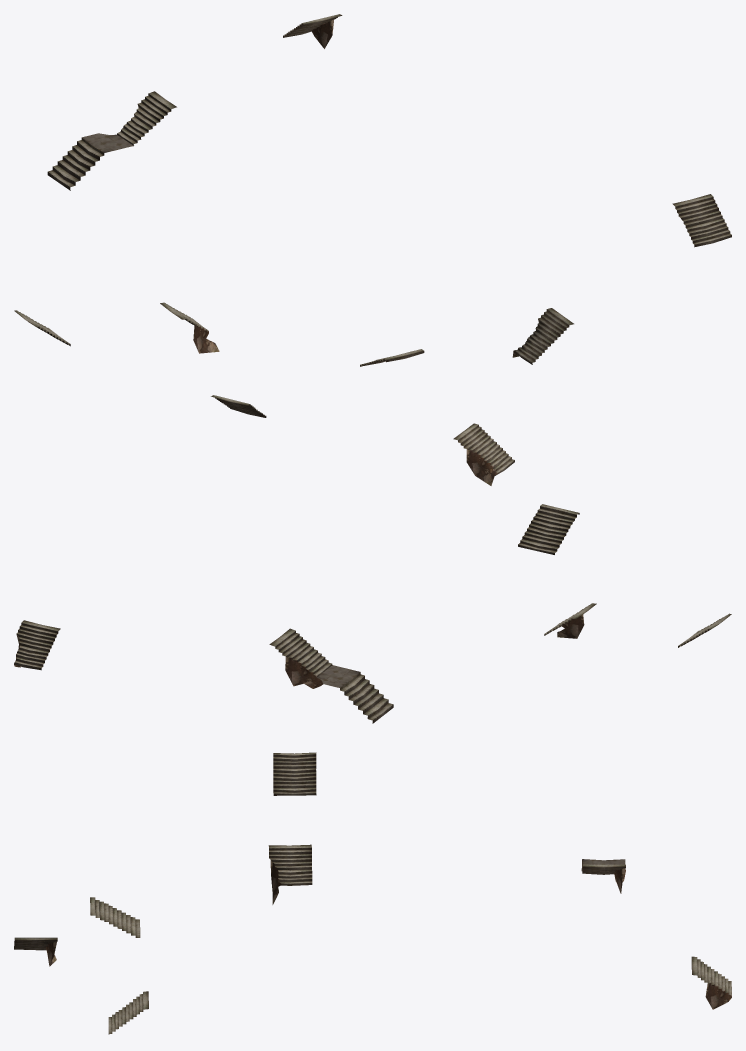
Rendered from rysd_louti_01.FBX.
3 views of the same model, one above another, from view 1: azimuth 30°, elevation 25°; view 2: azimuth 150°, elevation 25°; view 3: azimuth 270°, elevation 25° (orthographic). The views are drawn at different scales.
Visible parts, largest first — view 1: rysd_louti_01; view 2: rysd_louti_01; view 3: rysd_louti_01.
Part boxes in pixels (bbox=[...]): rysd_louti_01: bbox=[14, 14, 731, 366]; rysd_louti_01: bbox=[14, 395, 731, 723]; rysd_louti_01: bbox=[14, 752, 731, 1034].
Bounding box in the file's own units: 8507 × 1341 × 8988.
